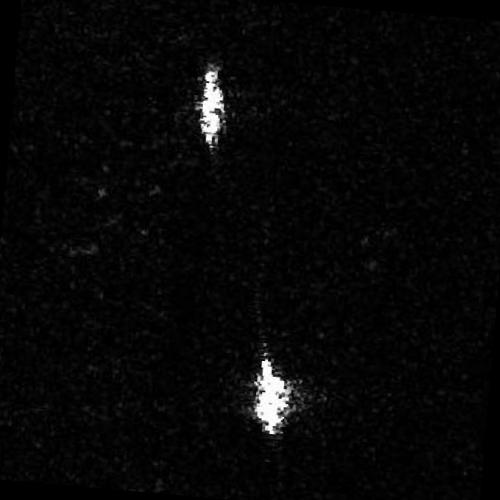ship: (254, 352, 289, 434), (199, 60, 225, 149)
